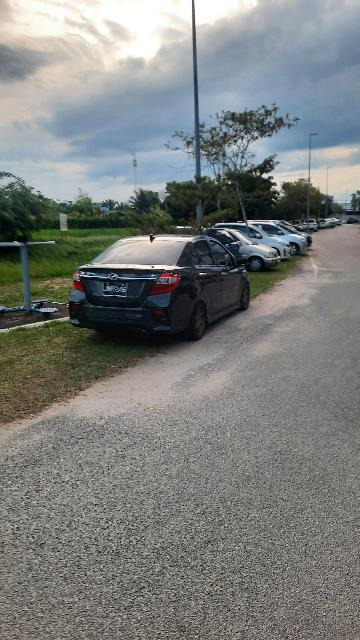License_Plate: (101, 282, 129, 301)
car: (67, 227, 252, 344)
